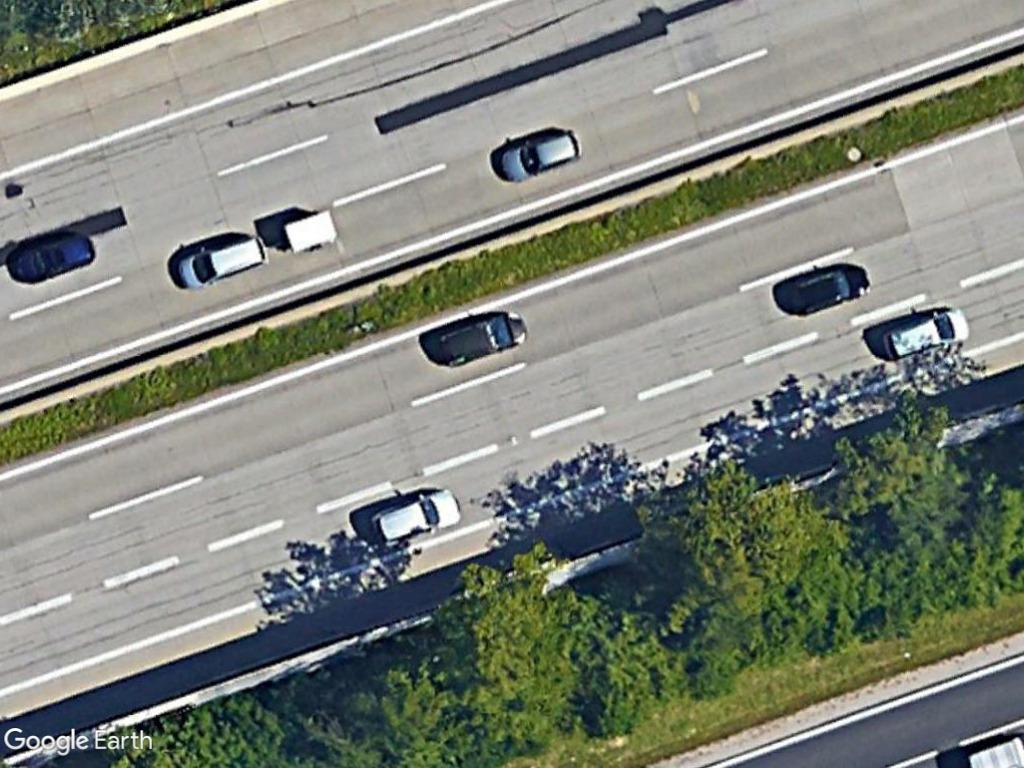car: (2, 216, 108, 287), (426, 305, 534, 369), (366, 481, 467, 548), (487, 122, 587, 188), (876, 300, 977, 363), (173, 229, 273, 292), (777, 259, 872, 319)
